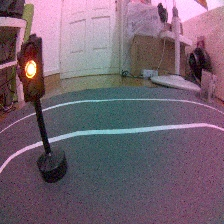amber: (15, 33, 73, 180)
